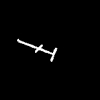double_crochet: (17, 39, 56, 61)
